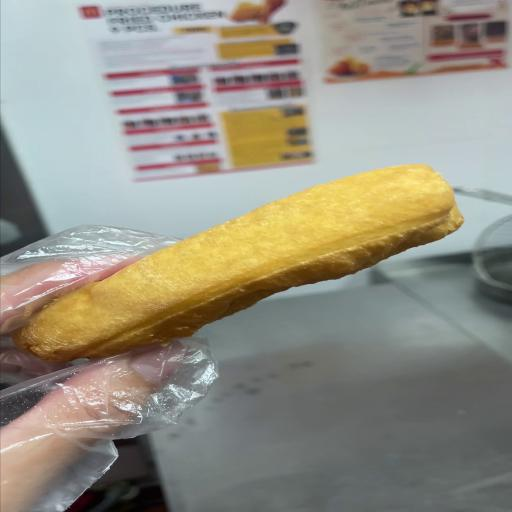brand_golden_good: (13, 165, 463, 361)
